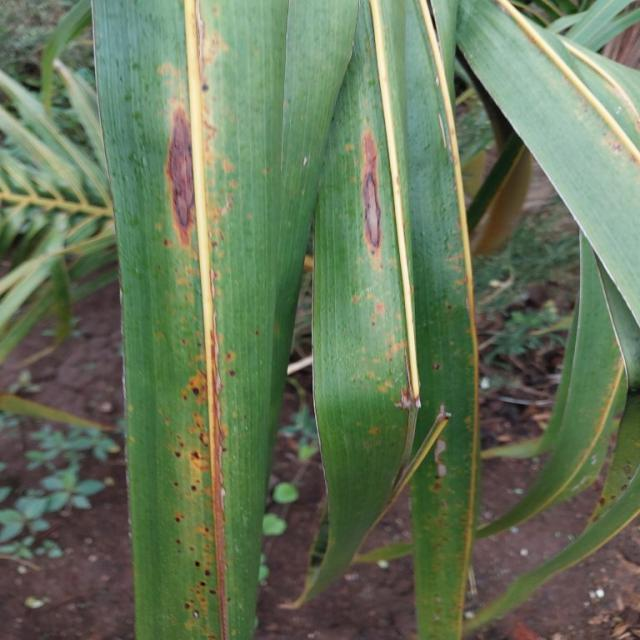gray leaf spot: (152, 0, 258, 640), (332, 120, 397, 280)
